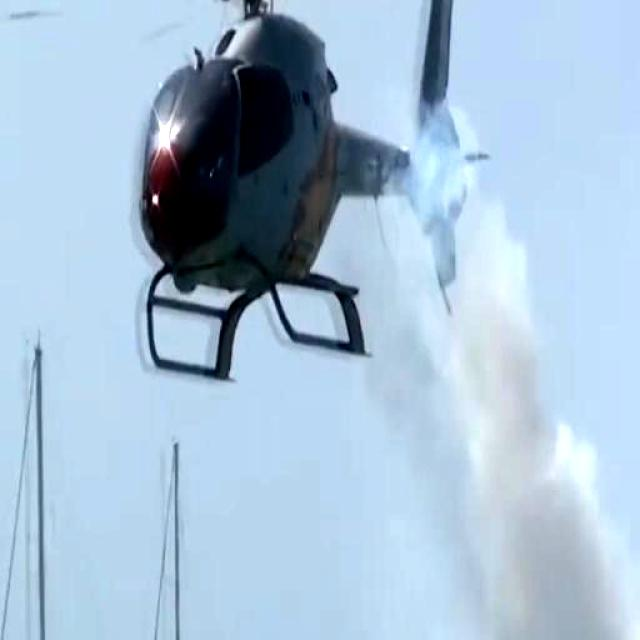drone: (85, 0, 491, 405)
